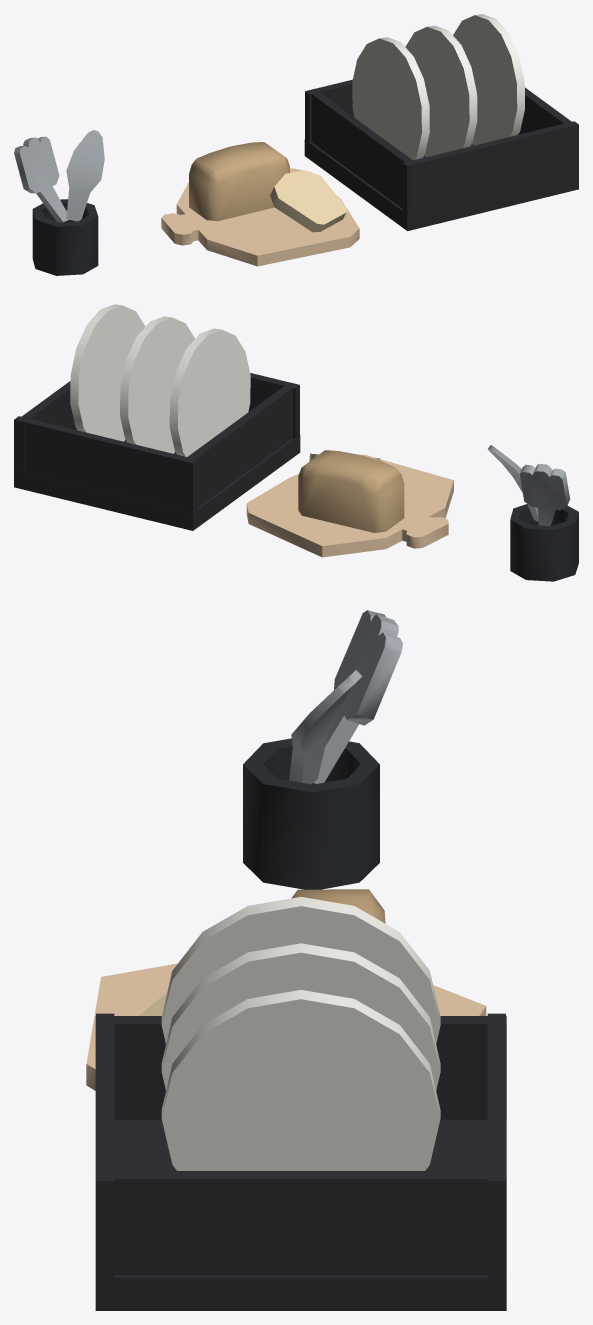
File: kitchen_ref_prep.glb
3 views of the same model, one above another, from view 1: azimuth 30°, elevation 25°; view 2: azimuth 150°, elevation 25°; view 3: azimuth 270°, elevation 25° (orthographic). The views are drawn at different scales.
Size of the model in its own units: 1.56 by 0.4253 by 0.5726.
